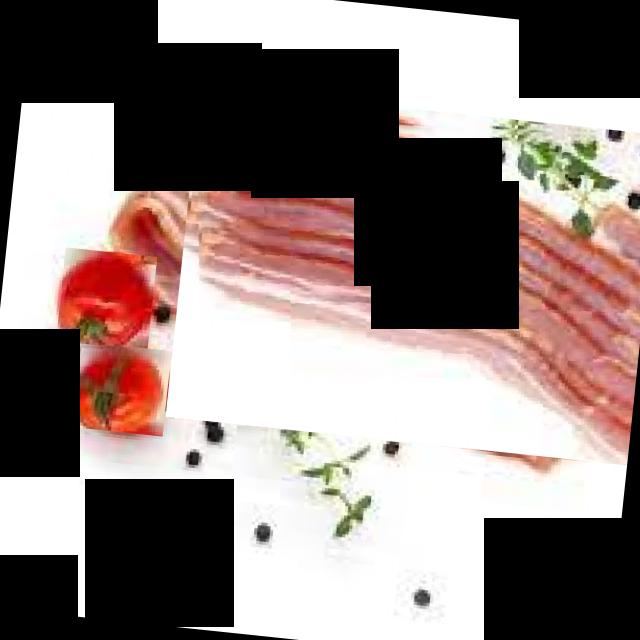bacon: (165, 86, 640, 465)
tomatoes: (55, 247, 157, 354), (72, 341, 170, 436)
